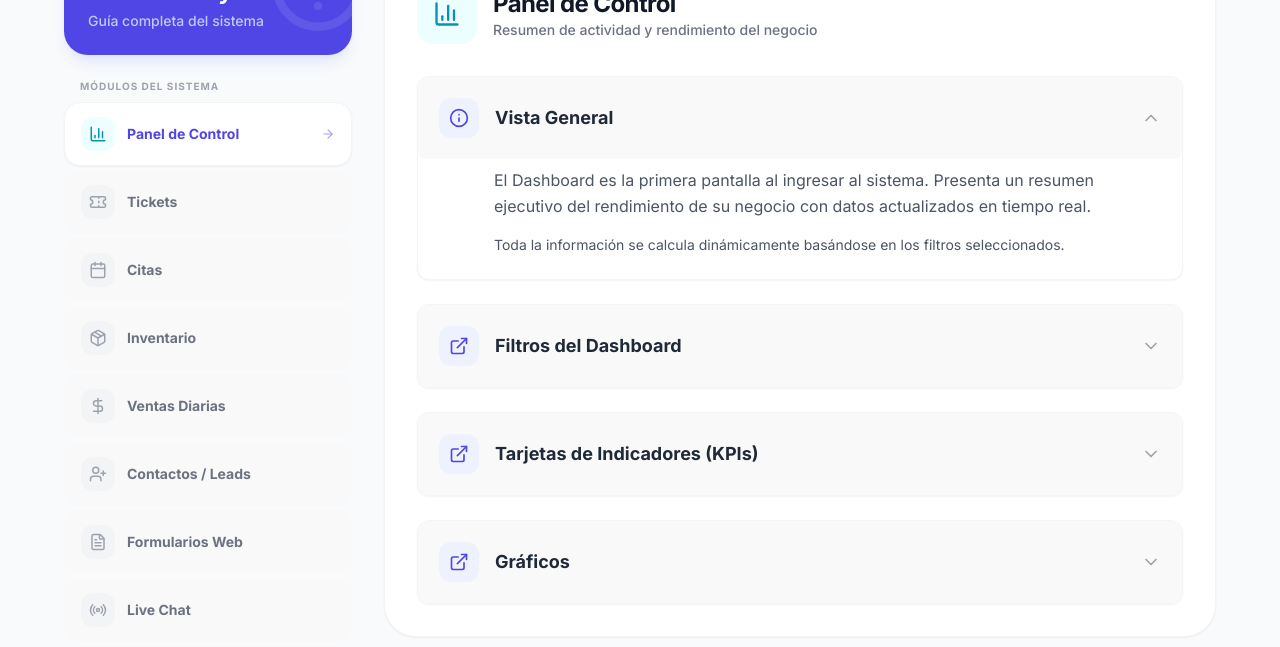
Test: Help — Formularios Web › renders every required section as a collapsible header
Click the button "Formularios Web".
click(208, 542)  # box [64,510,352,574]
(page scrolled)
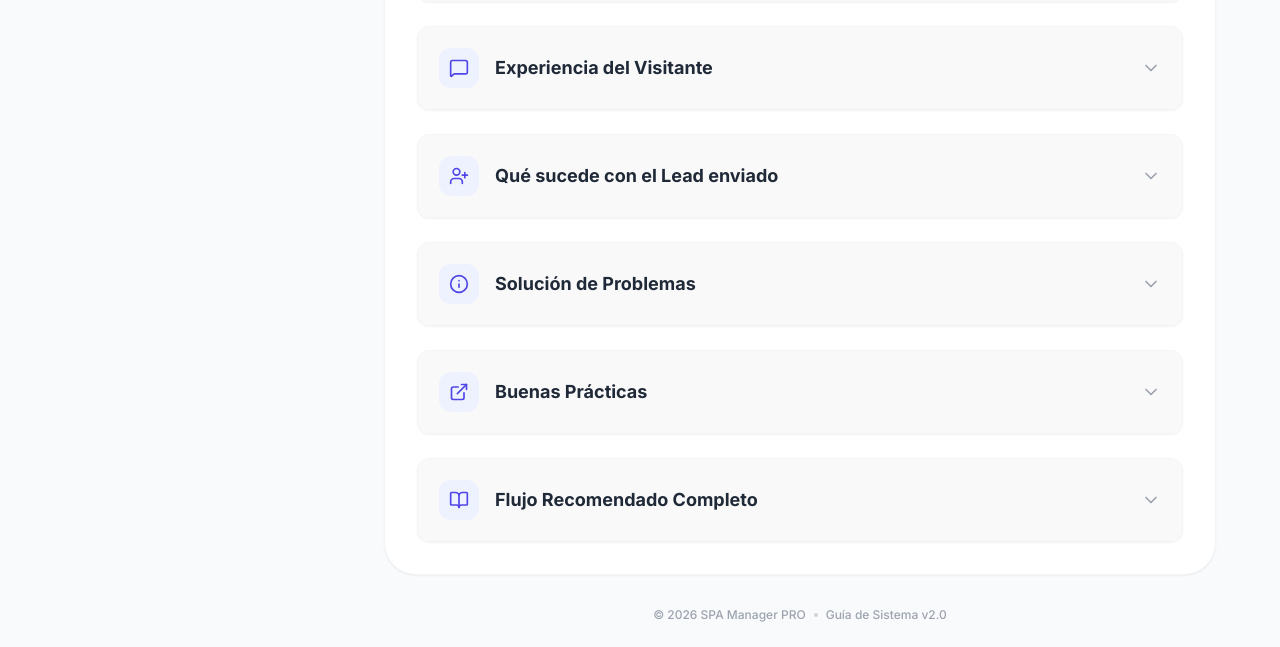
Check: the button "Experiencia del Visitante" is shown, box [418,27,1182,109]
Check: the button "Qué sucede con el Lead enviado" is shown, box [418,135,1182,217]
Check: the button "Solución de Problemas" is shown, box [418,243,1182,325]
